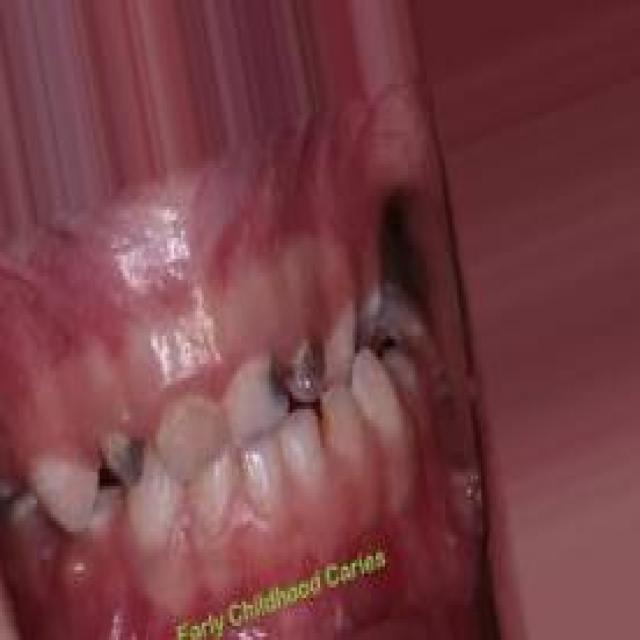caries: (97, 427, 152, 502), (287, 327, 330, 411), (248, 344, 293, 418)
